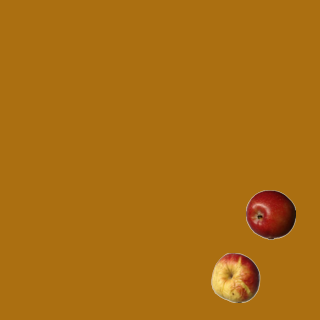Apple Braeburn: (245, 189, 295, 239)
Apple Red Yellow 1: (210, 252, 260, 302)
